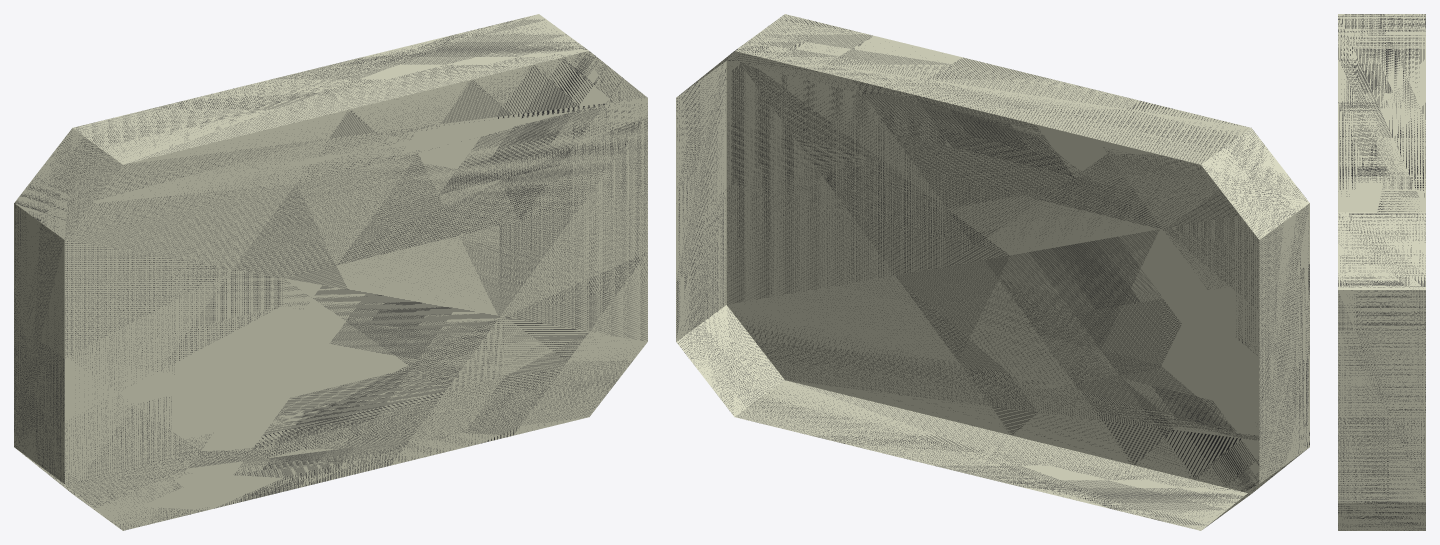
The model's file is original-104.obj.
The picture shows the model from 3 angles, left to right: view 1: azimuth 30°, elevation 25°; view 2: azimuth 150°, elevation 25°; view 3: azimuth 270°, elevation 25°; orthographic projection. The views are drawn at different scales.
Visible parts, largest first — view 1: mesh146/mesh146-geometry#mesh146-geometry; view 2: mesh146/mesh146-geometry#mesh146-geometry; view 3: mesh146/mesh146-geometry#mesh146-geometry.
Part boxes in pixels (left/top/right/bottom): mesh146/mesh146-geometry#mesh146-geometry: left=14, top=14, right=647, bottom=530; mesh146/mesh146-geometry#mesh146-geometry: left=676, top=14, right=1309, bottom=530; mesh146/mesh146-geometry#mesh146-geometry: left=1338, top=14, right=1425, bottom=530.
Size of the model in its own units: 0.1126 by 0.0676 by 0.0169.
